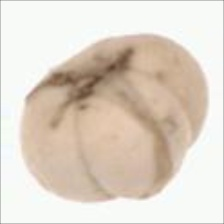L5: (72, 87, 177, 204), (24, 44, 139, 132)
L6: (18, 30, 211, 205)
